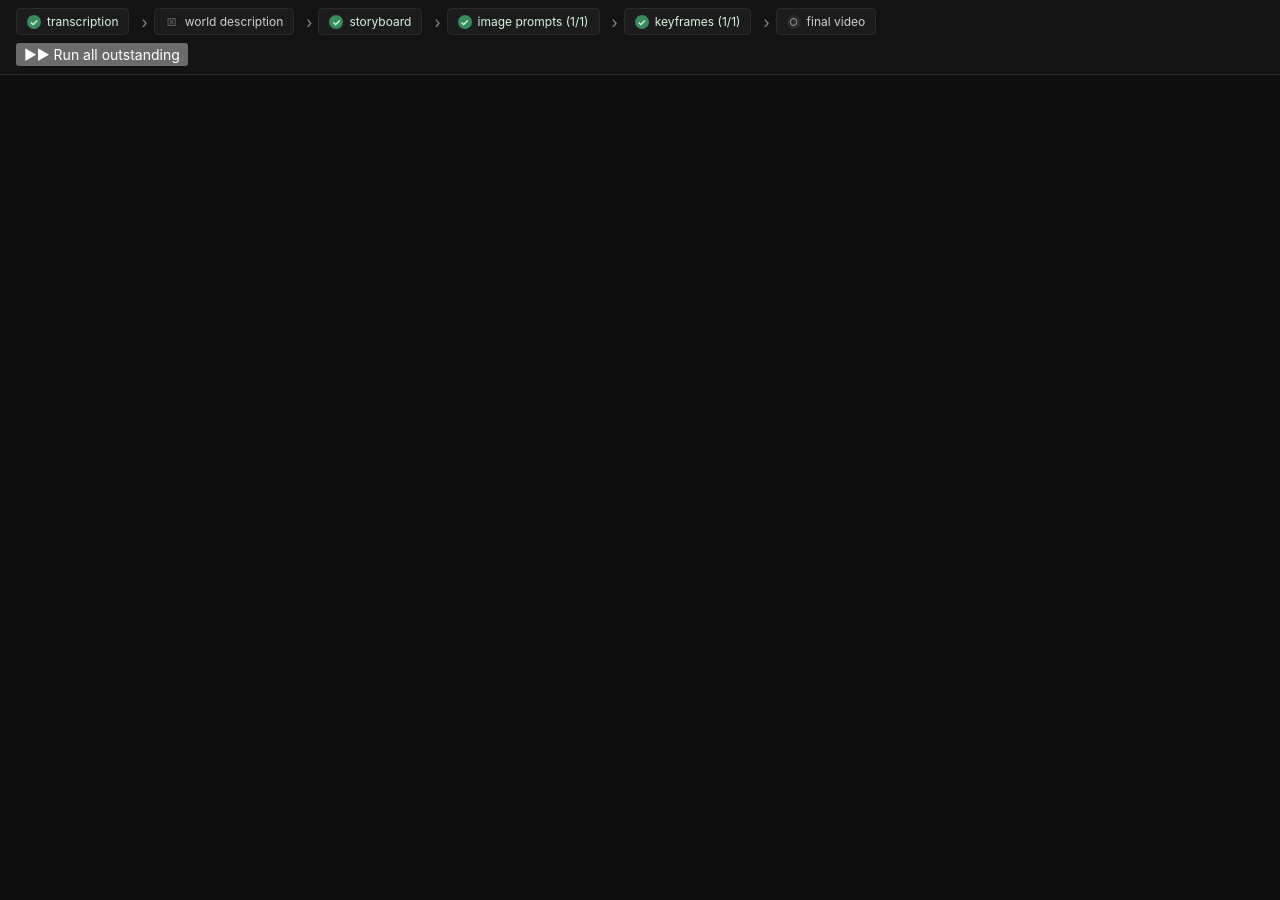
Test: PipelinePanel › blocked world visual-language setup opens picker instead of tooltip
Click the button "⌧ world description" at {"x": 224, "y": 22}, box [154,8,294,35]
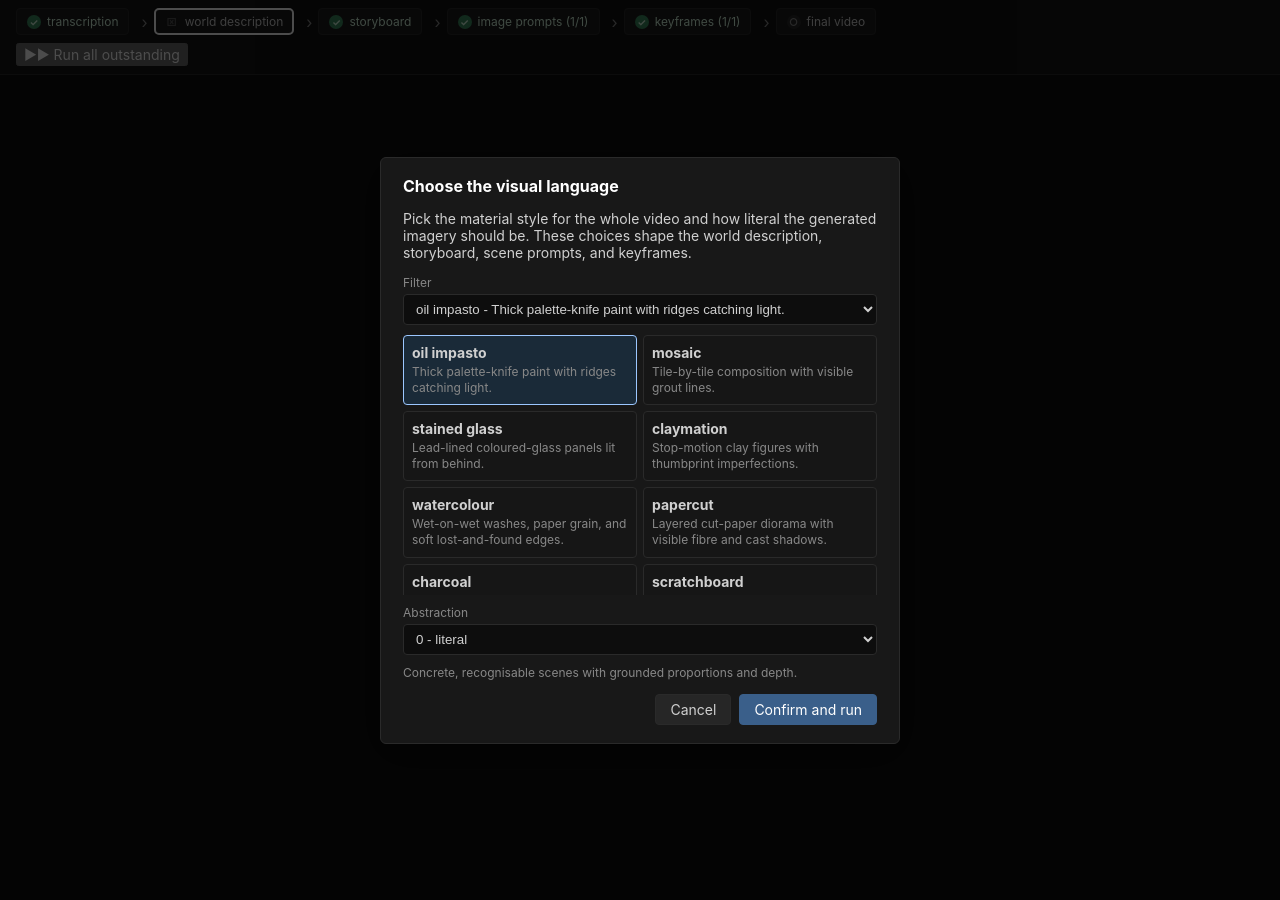
Result: the heading "Choose the visual language" is shown at [403,176,619,196]
